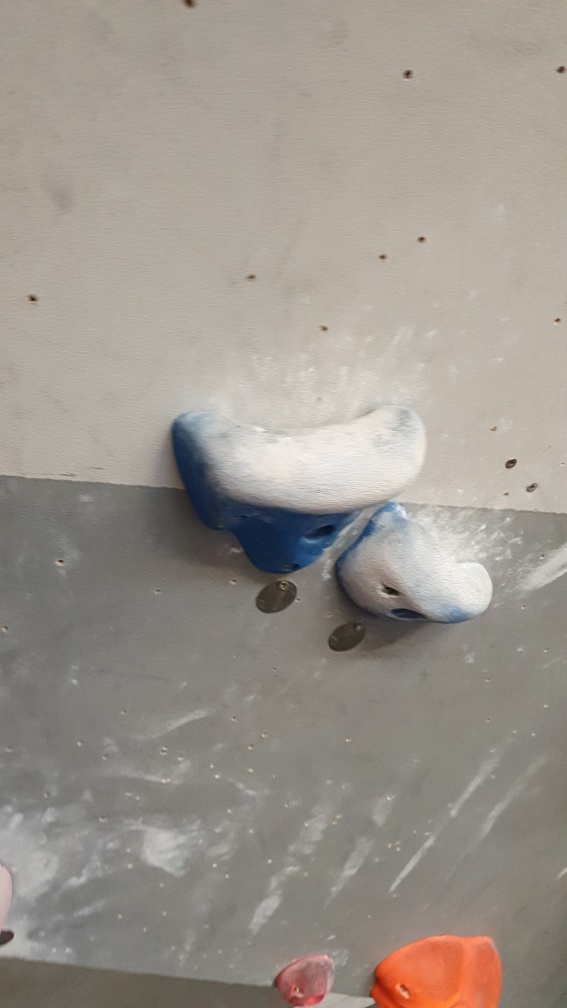Hand Start: (323, 609, 376, 662), (255, 577, 311, 622)
Jug: (166, 394, 440, 576), (327, 495, 495, 627)
